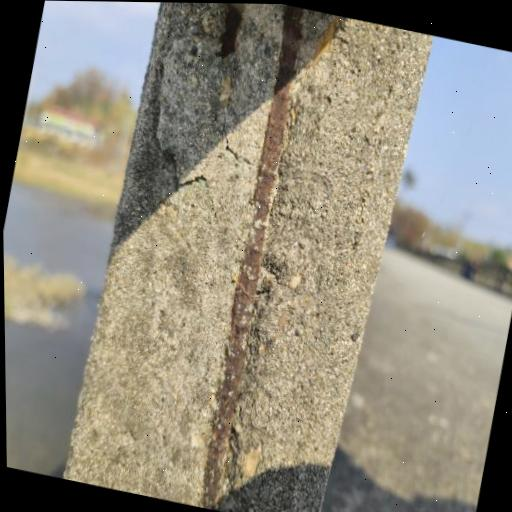exposed_rebar: (202, 6, 303, 509)
